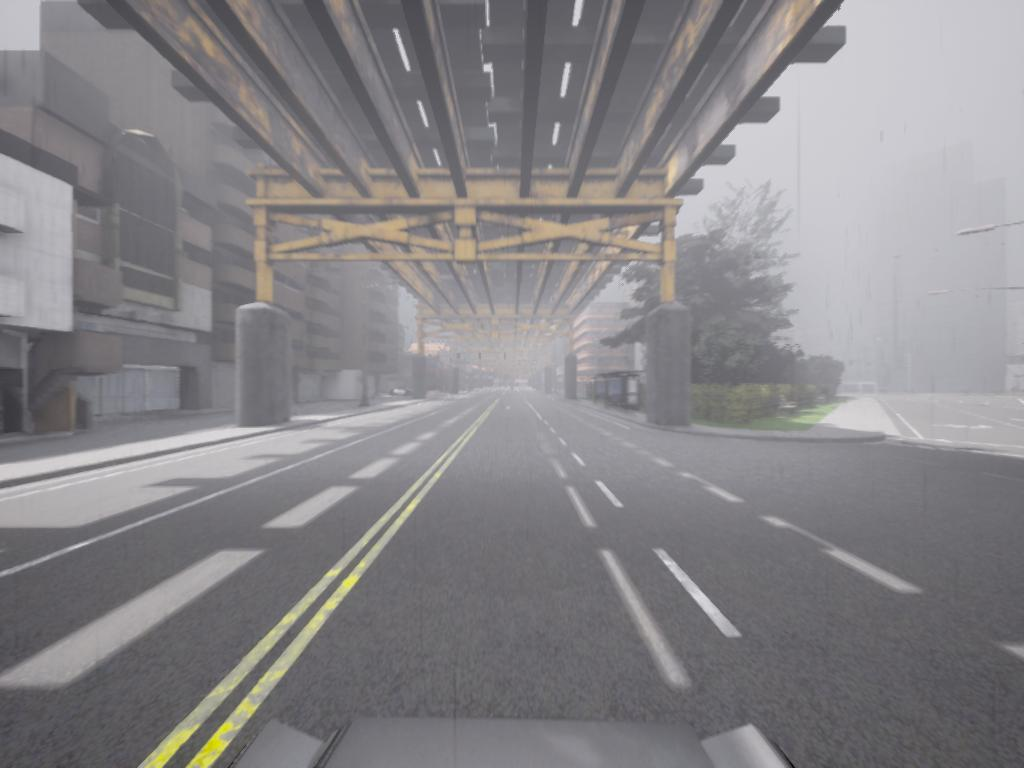traffic_light: (458, 353, 462, 362), (504, 354, 508, 361), (480, 353, 483, 361)
